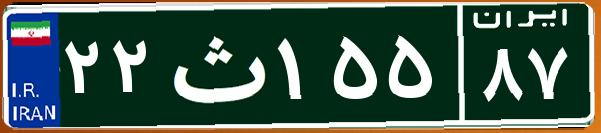1: (273, 28, 330, 110)
2: (57, 26, 110, 107), (110, 28, 158, 105)
5: (385, 28, 445, 110), (330, 28, 385, 110)
7: (525, 38, 570, 115)
8: (475, 38, 525, 113)
ث: (158, 15, 273, 115)
